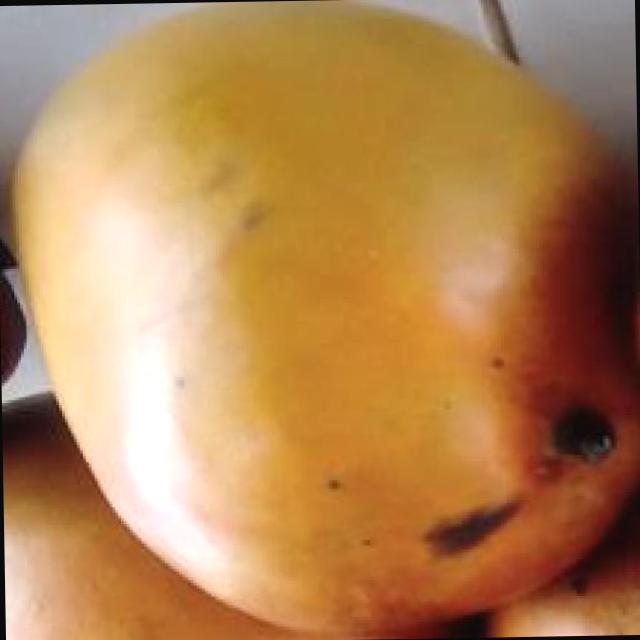Mango: (8, 0, 638, 637)
